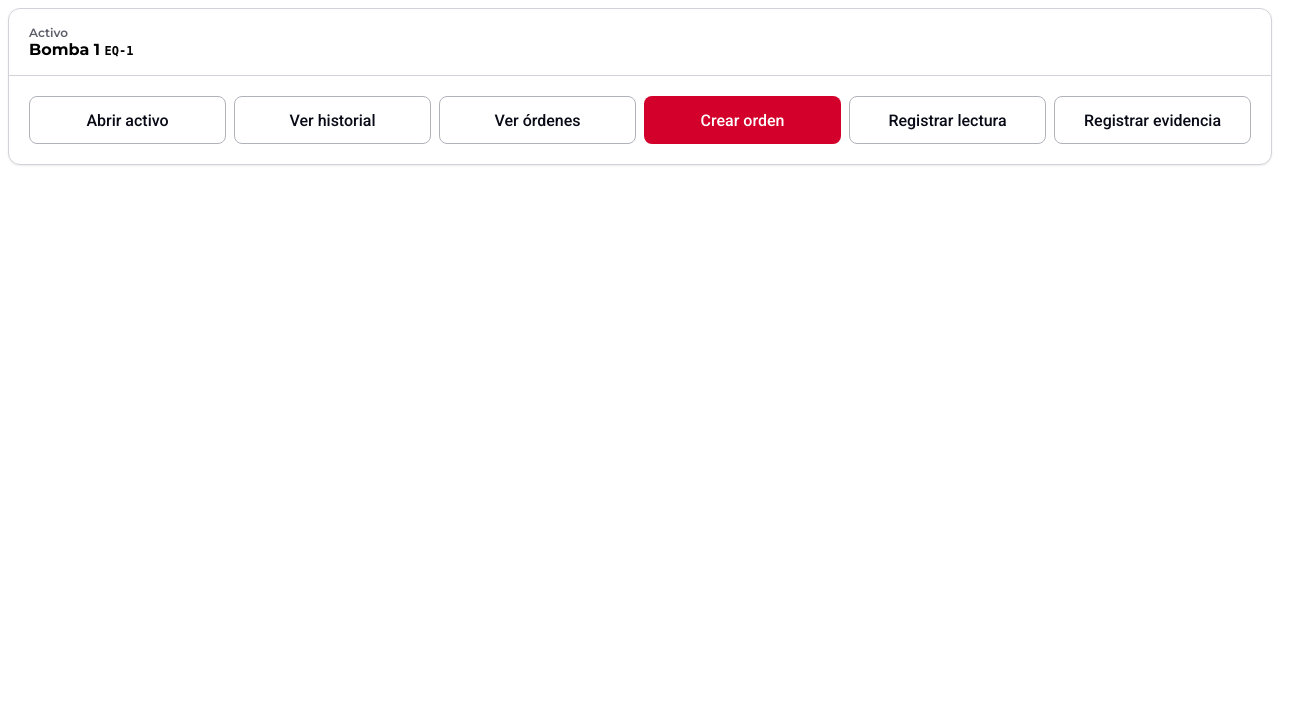
Scenario: QR → Activo → Ver órdenes (ruta → filtro) › navega a /ordenes filtrado y consulta/muestra solo las órdenes del activo
Check: the text "Bomba 1" is shown, box [29,40,100,59]
Click the link "Ver órdenes": (538, 120) [439,96,636,144]
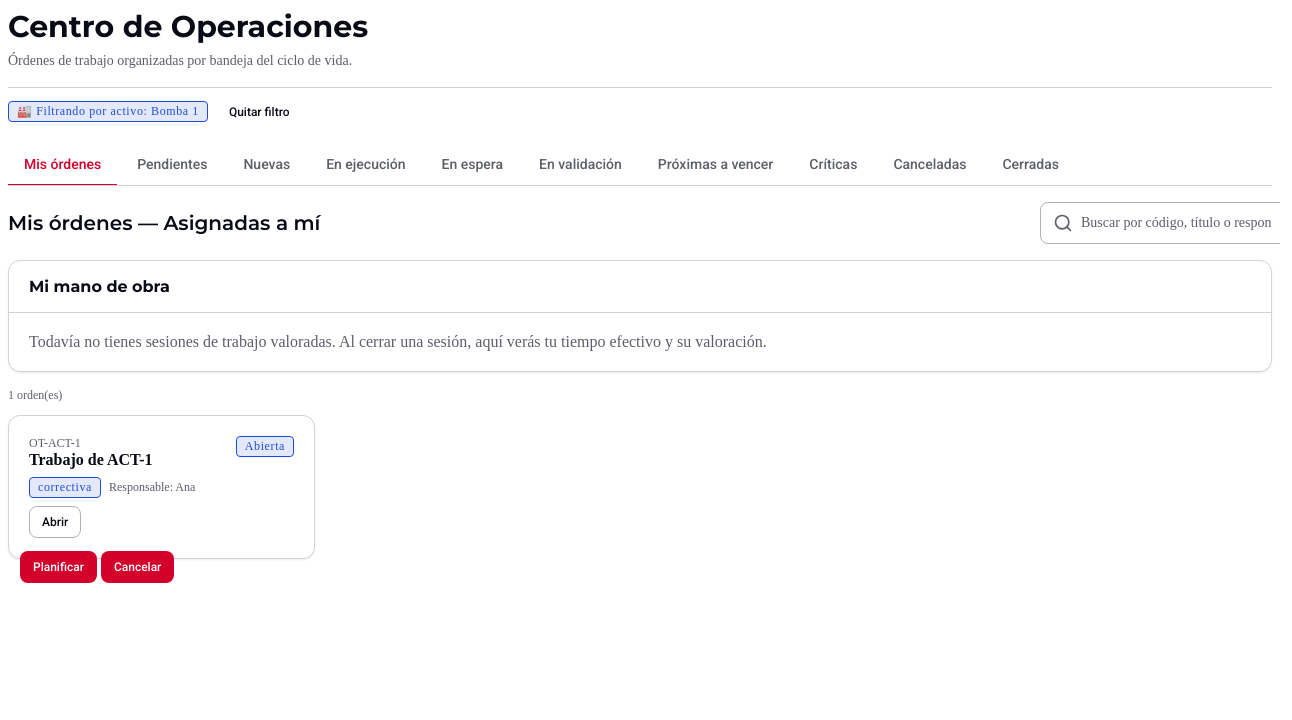
Check: the heading "Centro de Operaciones" is shown, box [8,8,368,46]
Check: the message named "Filtro contextual por activo" is shown, box [8,96,303,128]
Check: the text "OT-ACT-1" is shown, box [29,436,81,450]
